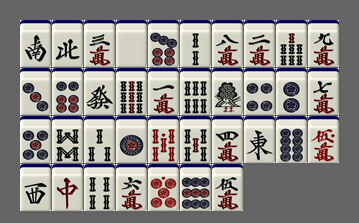0m: (308, 116, 339, 163)
0p: (148, 164, 179, 211)
0s: (148, 116, 179, 163)
1m: (148, 68, 179, 115)
1p: (116, 116, 147, 163)
1s: (212, 68, 243, 115)
1z: (244, 116, 275, 163)
2m: (244, 20, 275, 67)
2p: (276, 68, 307, 115)
2s: (180, 20, 211, 67)
2z: (20, 20, 51, 67)
3m: (84, 20, 115, 67)
3p: (20, 68, 51, 115)
3s: (84, 116, 115, 163)
3z: (20, 164, 51, 211)
4m: (212, 116, 243, 163)
4p: (244, 68, 275, 115)
4s: (84, 164, 115, 211)
4z: (52, 20, 83, 67)
5m: (212, 164, 243, 211)
5p: (20, 116, 51, 163)
5s: (180, 116, 211, 163)
5z: (116, 20, 147, 67)
6m: (116, 164, 147, 211)
6p: (52, 68, 83, 115)
6s: (180, 68, 211, 115)
6z: (84, 68, 115, 115)
7m: (308, 68, 339, 115)
7p: (148, 20, 179, 67)
7s: (276, 20, 307, 67)
7z: (52, 164, 83, 211)
8m: (212, 20, 243, 67)
8p: (276, 116, 307, 163)
8s: (52, 116, 83, 163)
9m: (308, 20, 339, 67)
9p: (180, 164, 211, 211)
9s: (116, 68, 147, 115)
